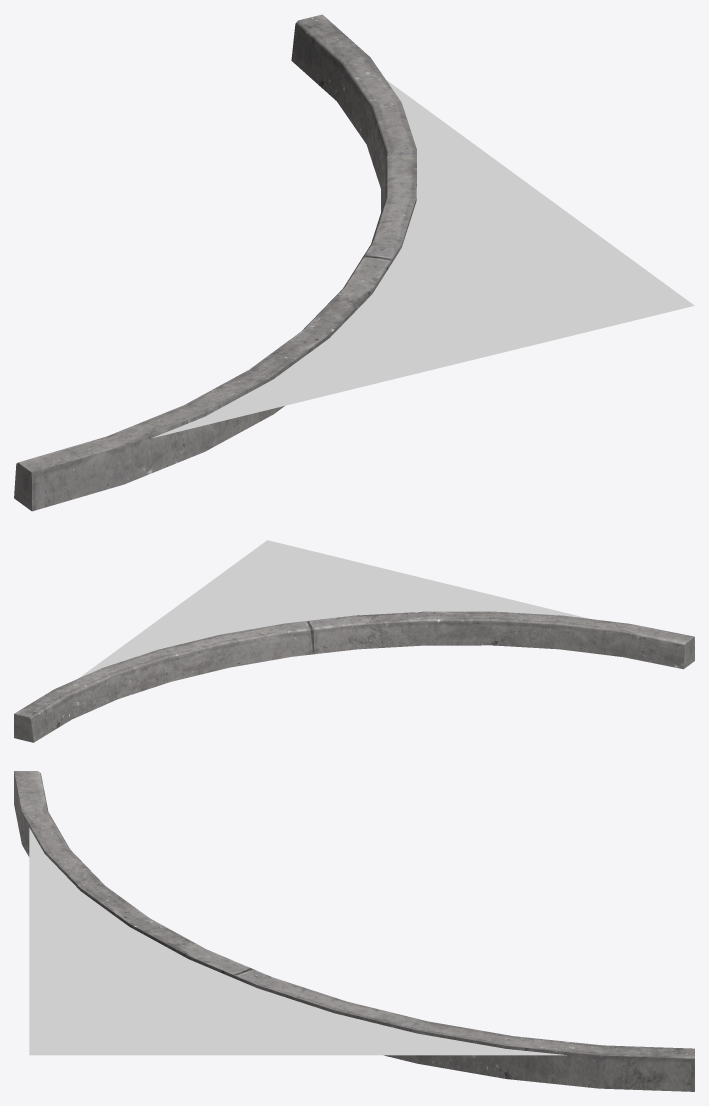
Rendered from MB_Sidewalk_Angle_02.fbx.
3 views of the same model, one above another, from view 1: azimuth 30°, elevation 25°; view 2: azimuth 150°, elevation 25°; view 3: azimuth 270°, elevation 25° (orthographic). The views are drawn at different scales.
Parts seen in each view (by area): view 1: MB_Sidewalk_Angle_02_LOD0; view 2: MB_Sidewalk_Angle_02_LOD0; view 3: MB_Sidewalk_Angle_02_LOD0.
Boxes of the visible parts, x1=… form: MB_Sidewalk_Angle_02_LOD0: x1=14, y1=14, x2=694, y2=511; MB_Sidewalk_Angle_02_LOD0: x1=14, y1=540, x2=694, y2=742; MB_Sidewalk_Angle_02_LOD0: x1=14, y1=771, x2=694, y2=1091.
Size of what is drawn, in the model's own units: 205 by 11 by 205.
